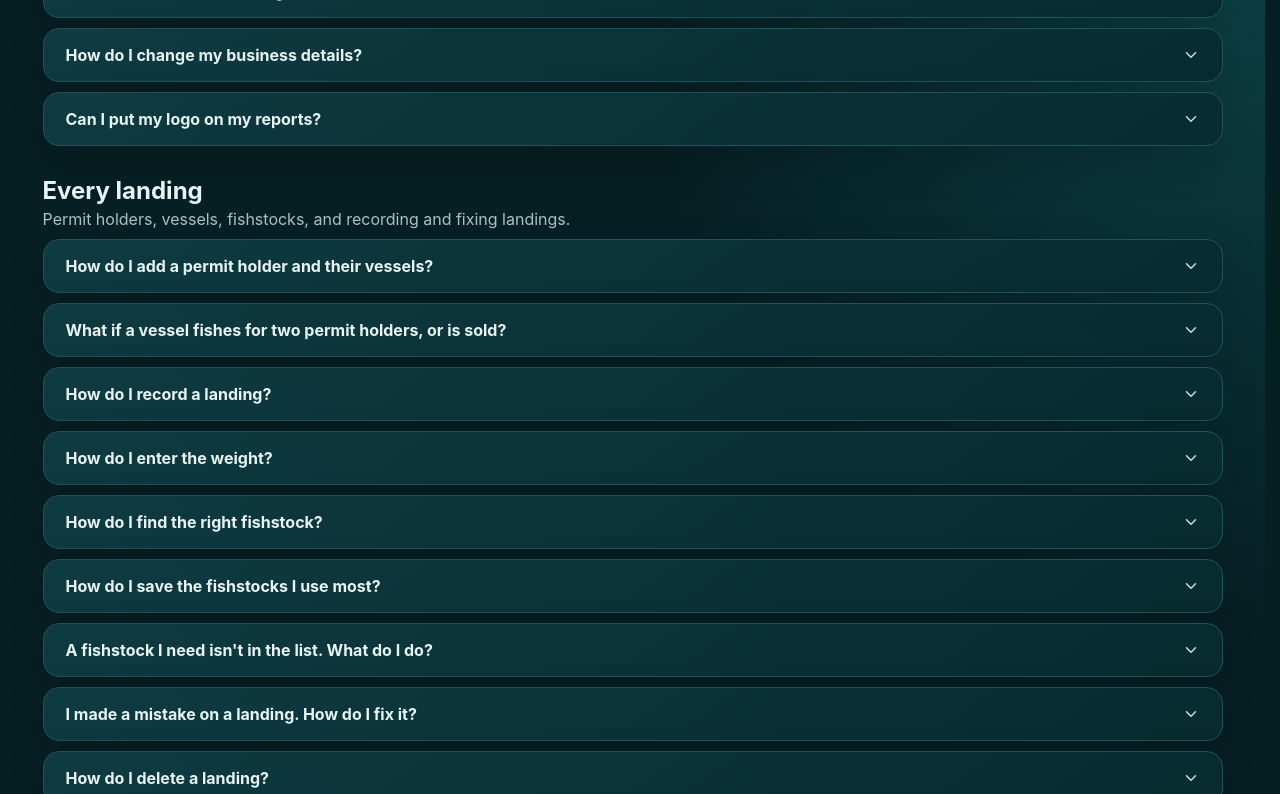
Test case: FAQ page › opens a question to show its answer, with button names in bold
The width and height of the screenshot is (1280, 794).
(page scrolled)
What coordinates should you click on to do the following:
click the heading "How do I record a landing?"
I would click on:
 (168, 394)
Its box is [66,384,1200,404].
(page scrolled)
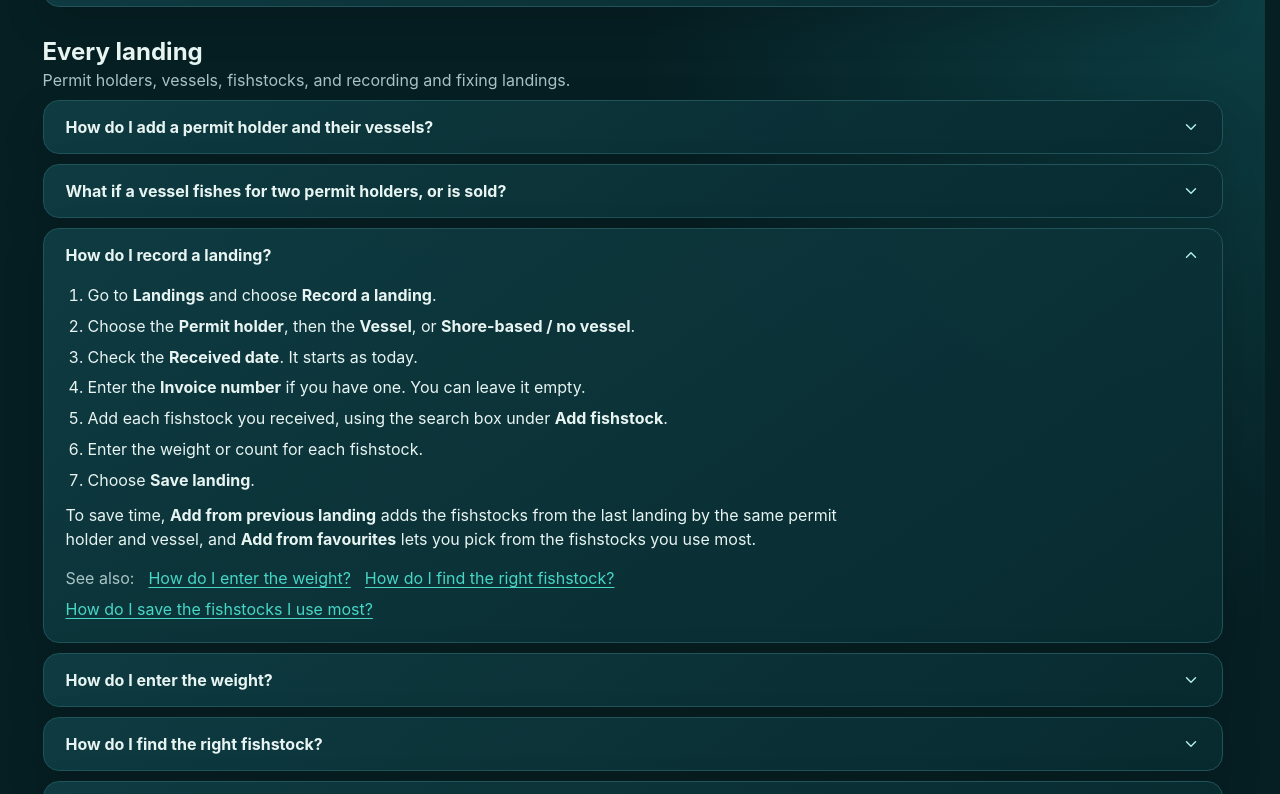
Now the text "Landings" is shown, box [133,285,204,305]
